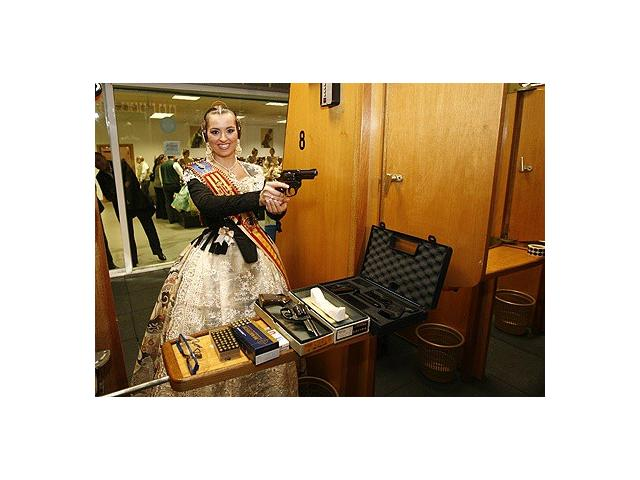pistol: (257, 291, 320, 340), (268, 168, 320, 214)
